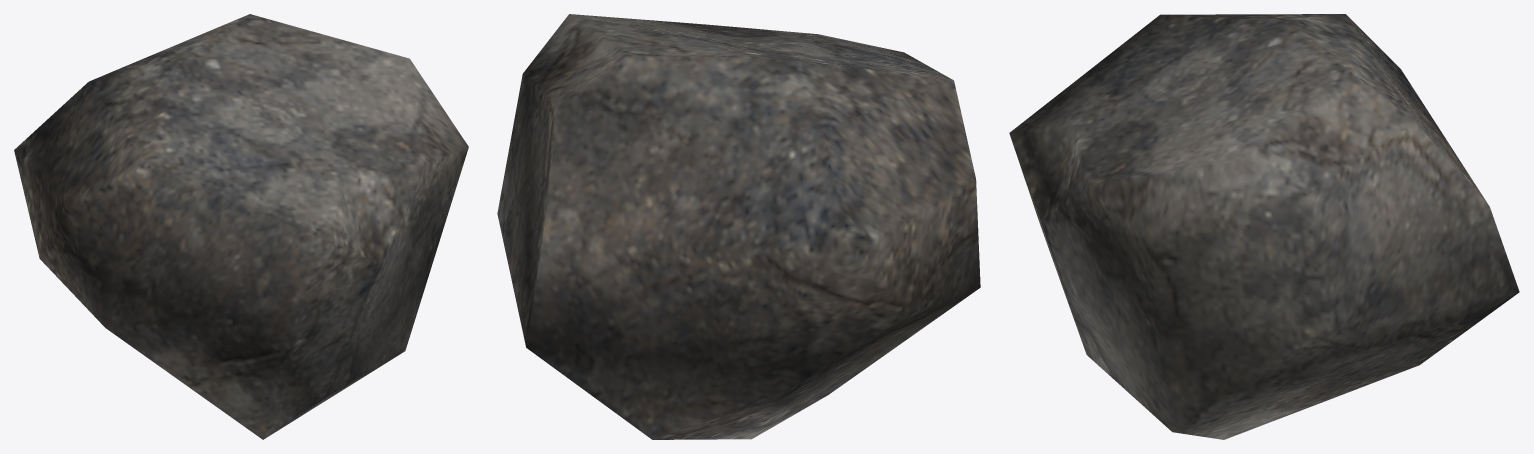
File: RockSm2_3_LOD1.fbx
3 views of the same model, side by side, from view 1: azimuth 30°, elevation 25°; view 2: azimuth 150°, elevation 25°; view 3: azimuth 270°, elevation 25° (orthographic). The views are drawn at different scales.
Parts seen in each view (by area): view 1: polySurface230; view 2: polySurface230; view 3: polySurface230.
Part boxes in pixels (x1,y1,x2,y2): polySurface230: [14, 14, 468, 439]; polySurface230: [497, 14, 980, 439]; polySurface230: [1009, 14, 1519, 439].
Size of the model in its own units: 86.86 by 81.2 by 95.9.
